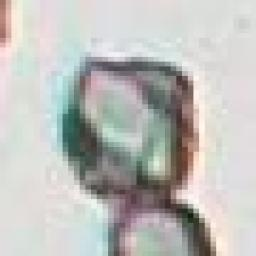crystals: (50, 51, 202, 217)
